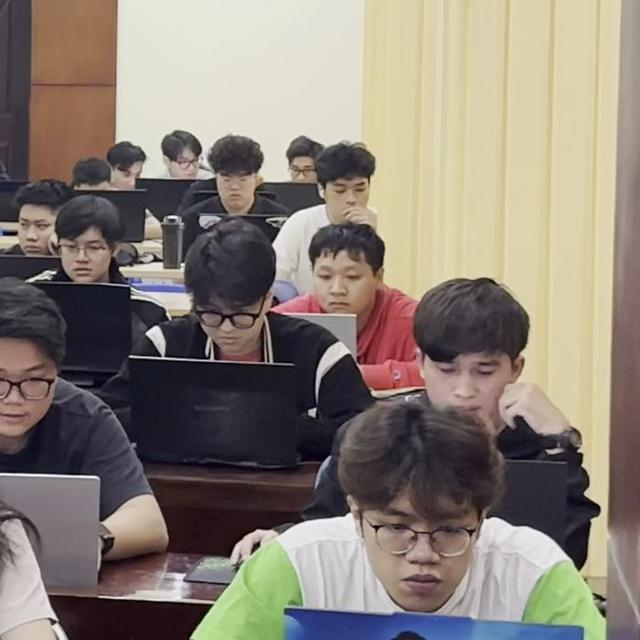Looking away: (352, 431, 474, 619), (416, 283, 547, 433), (193, 223, 304, 355), (0, 283, 68, 434), (303, 219, 396, 322), (59, 196, 124, 285), (16, 174, 80, 262), (309, 147, 369, 221), (207, 133, 261, 205), (162, 128, 204, 182), (288, 133, 321, 180)
